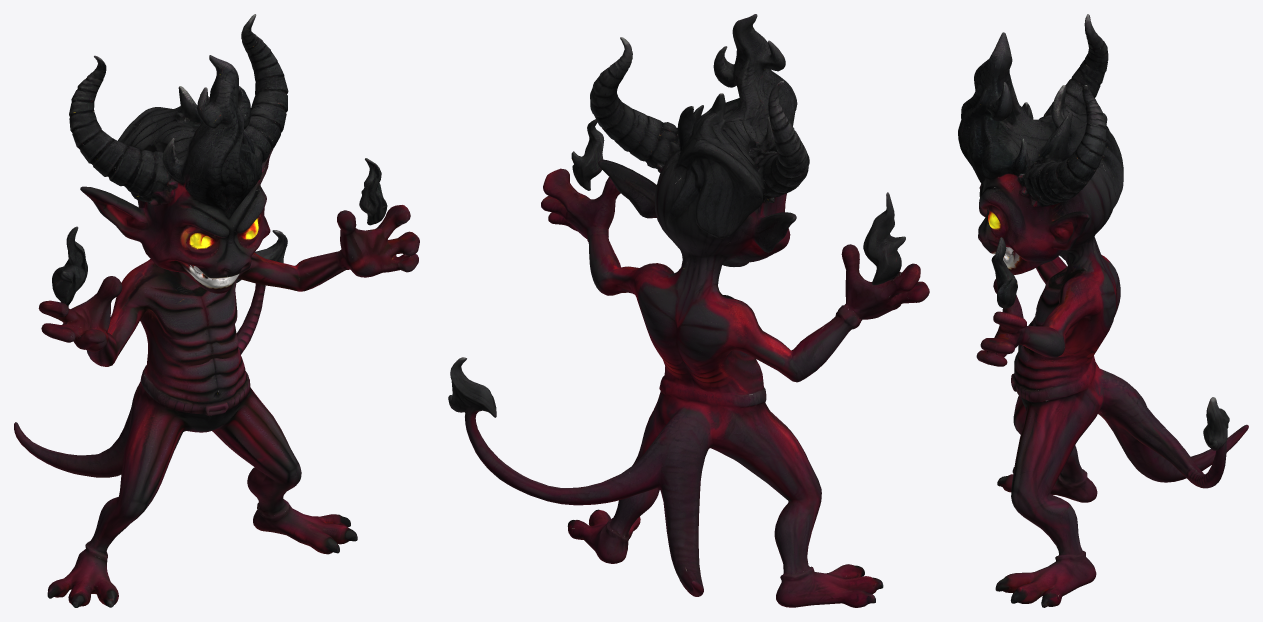
The model's file is Meshy_AI_fire_imp_unsettling_0504063318_texture.fbx.
The picture shows the model from 3 angles, left to right: view 1: azimuth 30°, elevation 25°; view 2: azimuth 150°, elevation 25°; view 3: azimuth 270°, elevation 25°; orthographic projection. The views are drawn at different scales.
Visible parts, largest first — view 1: Mesh_0; view 2: Mesh_0; view 3: Mesh_0.
Part boxes in pixels (box(x1,y1,x2,y2)): Mesh_0: box(14, 14, 419, 607); Mesh_0: box(448, 14, 929, 607); Mesh_0: box(958, 14, 1248, 607).
Bounding box in the file's own units: 141 × 191 × 99.94.
Materials: 1 (1 with a texture image).
